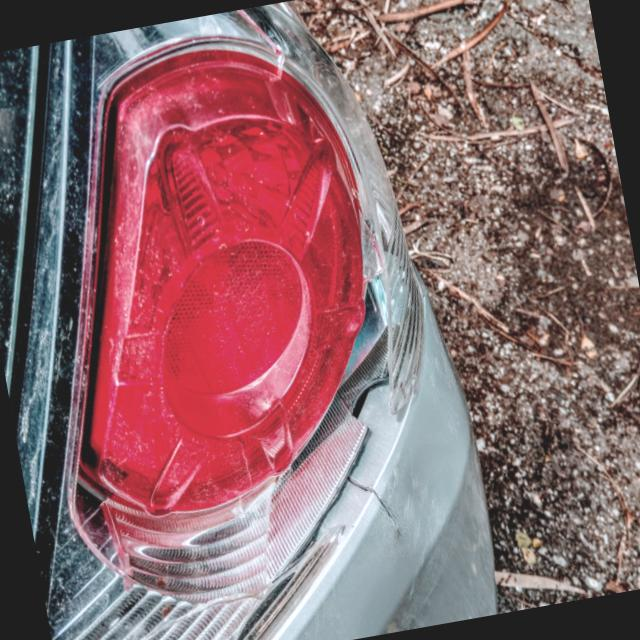Phare abime: (28, 196, 444, 633)
